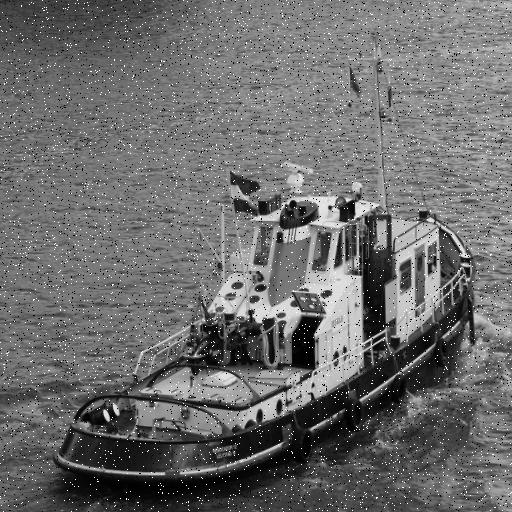tugboat: (45, 26, 483, 508)
